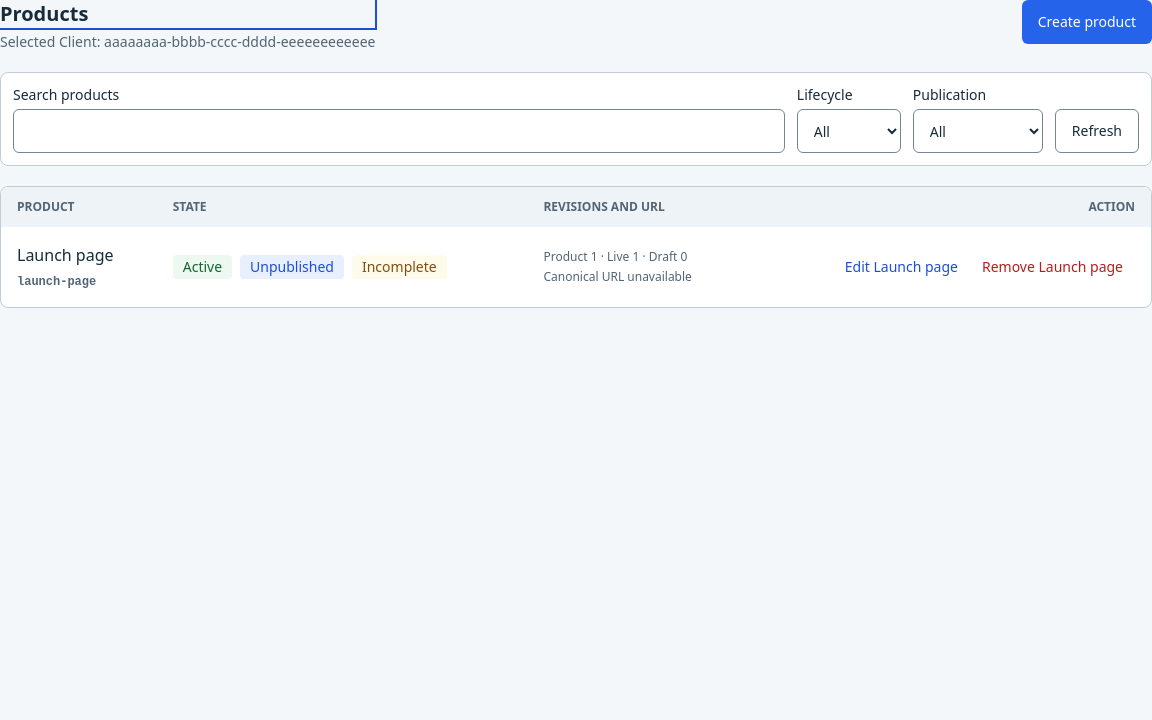
Scenario: ProductsPage › renders distinct product state and creates with a stable exact command
Expected: the text "Launch page" is shown, [17,244,114,266]
Expected: the text "Incomplete" is shown, [352,255,447,279]
Step 1. Click the button "Create product" → (1087, 22), box [1022,0,1151,44]
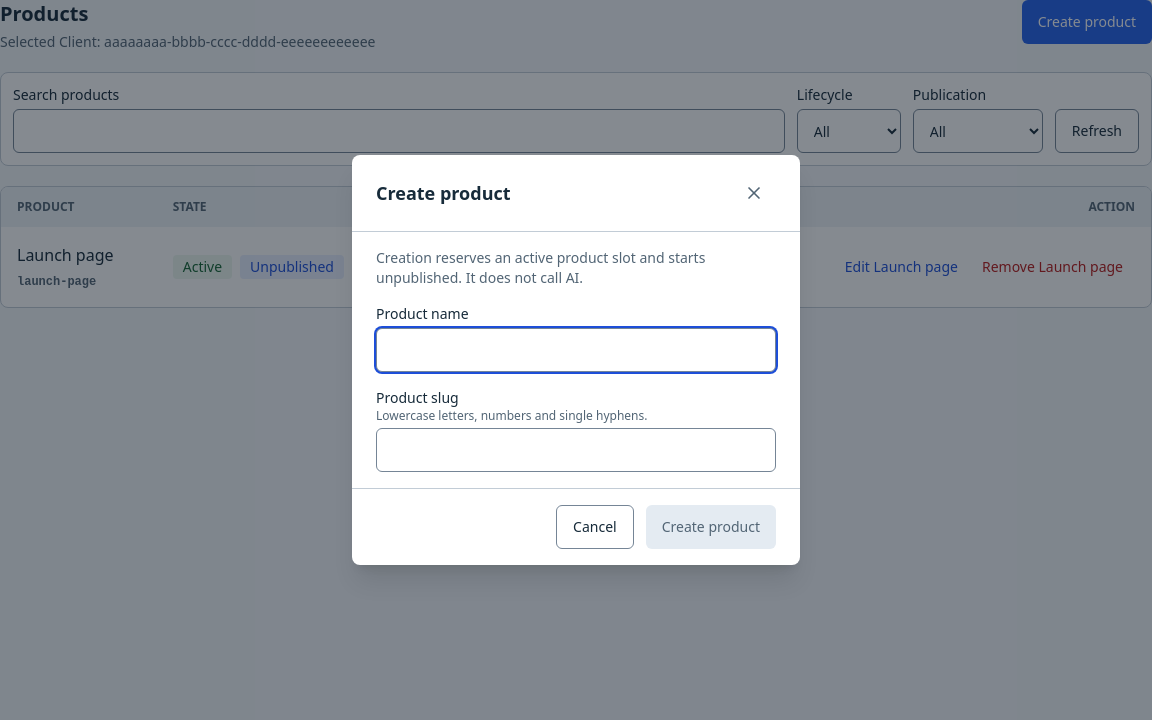
Step 2. Type "New page" into the field labelled "Product name" → (576, 350), box [376,328,776,372]
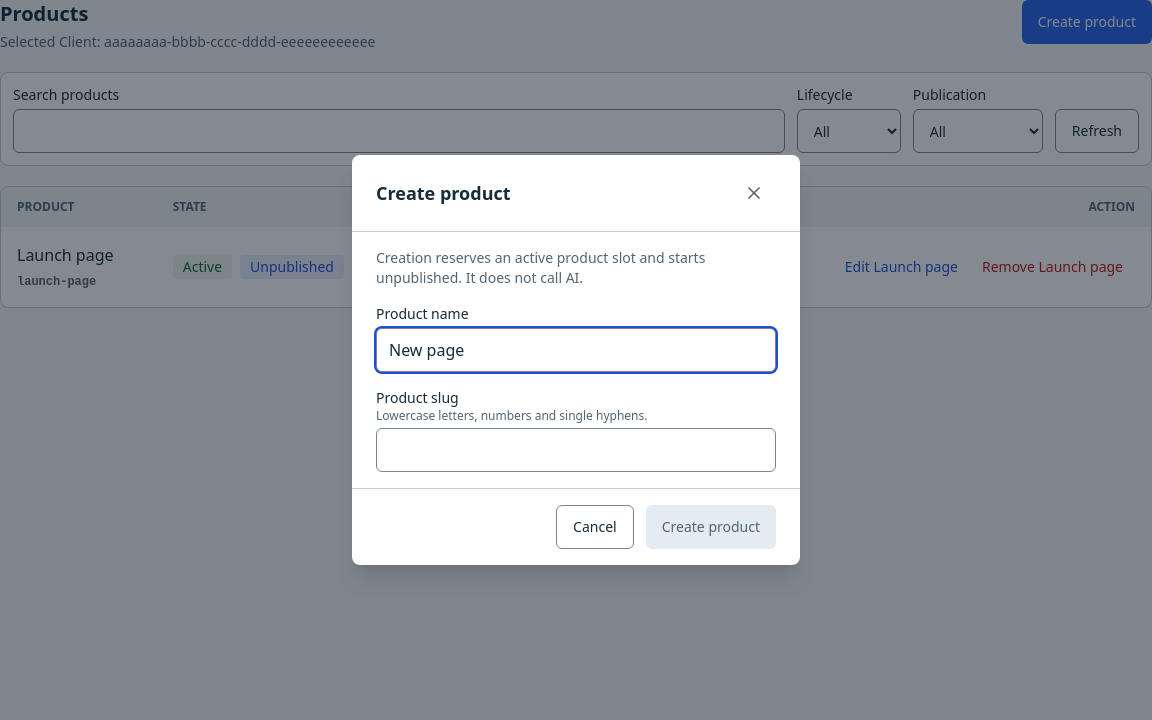
Step 3. Type "new-page" into the field labelled "Product slug" → (576, 450), box [376,428,776,472]
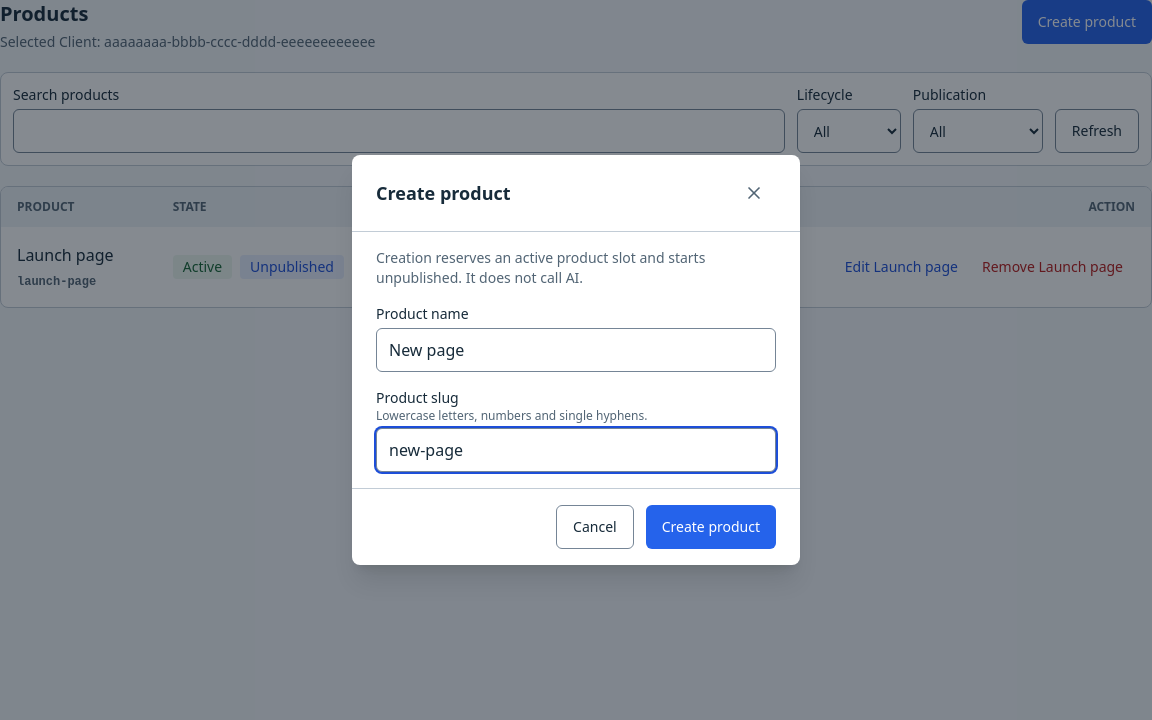
Step 4. Click the button "Create product" → (711, 527), box [646,505,776,549]
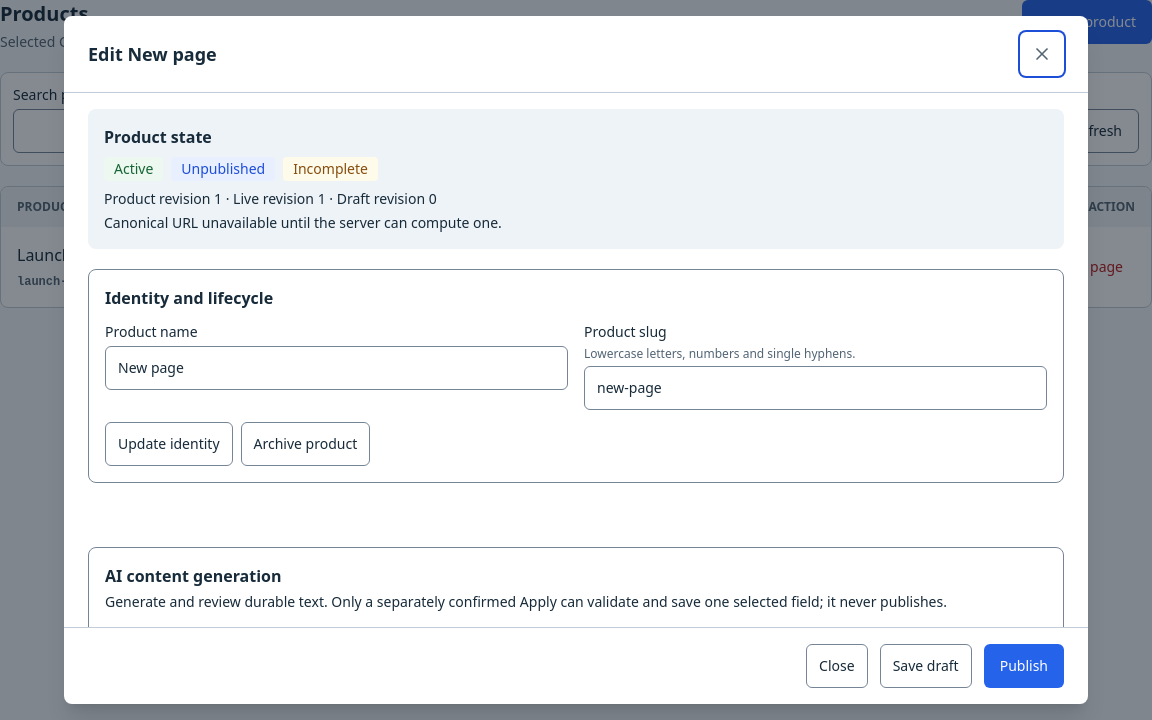
Expected: the dialog "Edit New page" is shown
